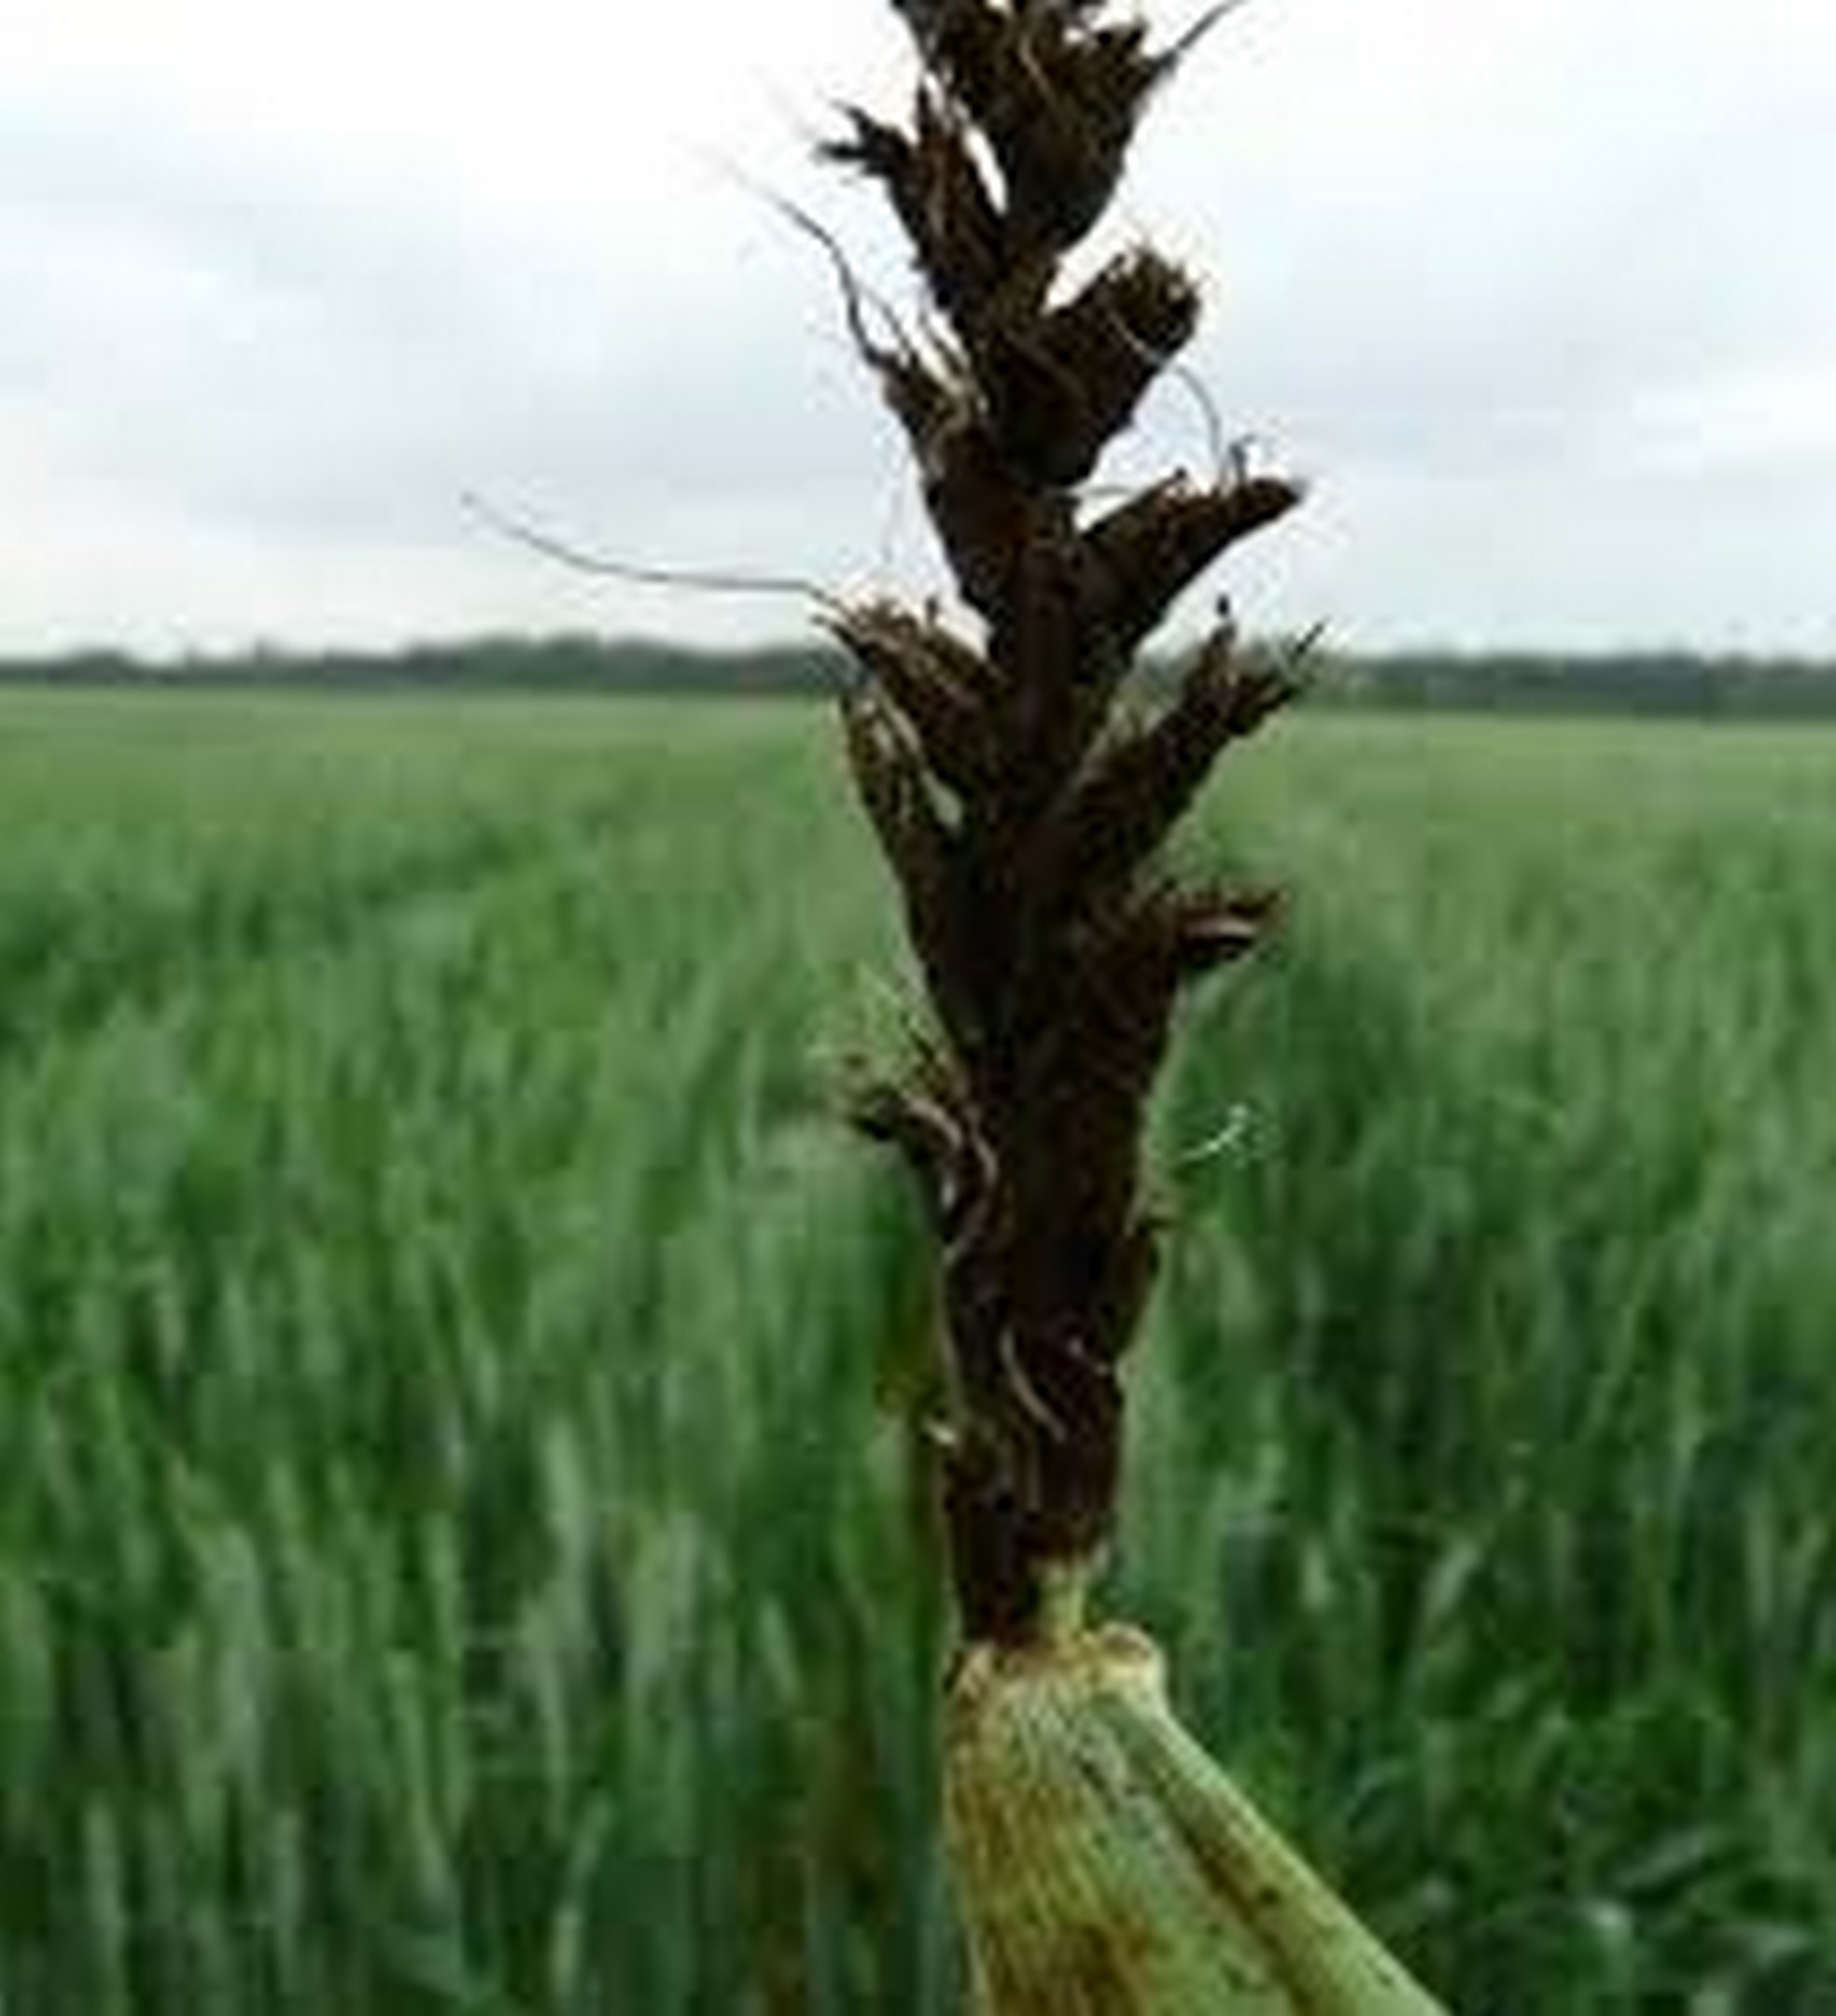Wheat Loose Smut: (771, 37, 1351, 1609)
